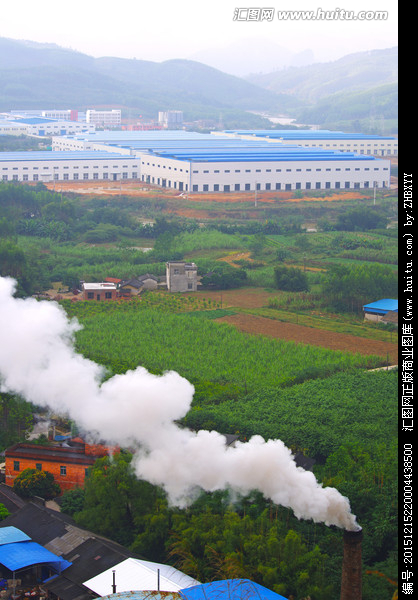dust: (120, 393, 385, 545)
